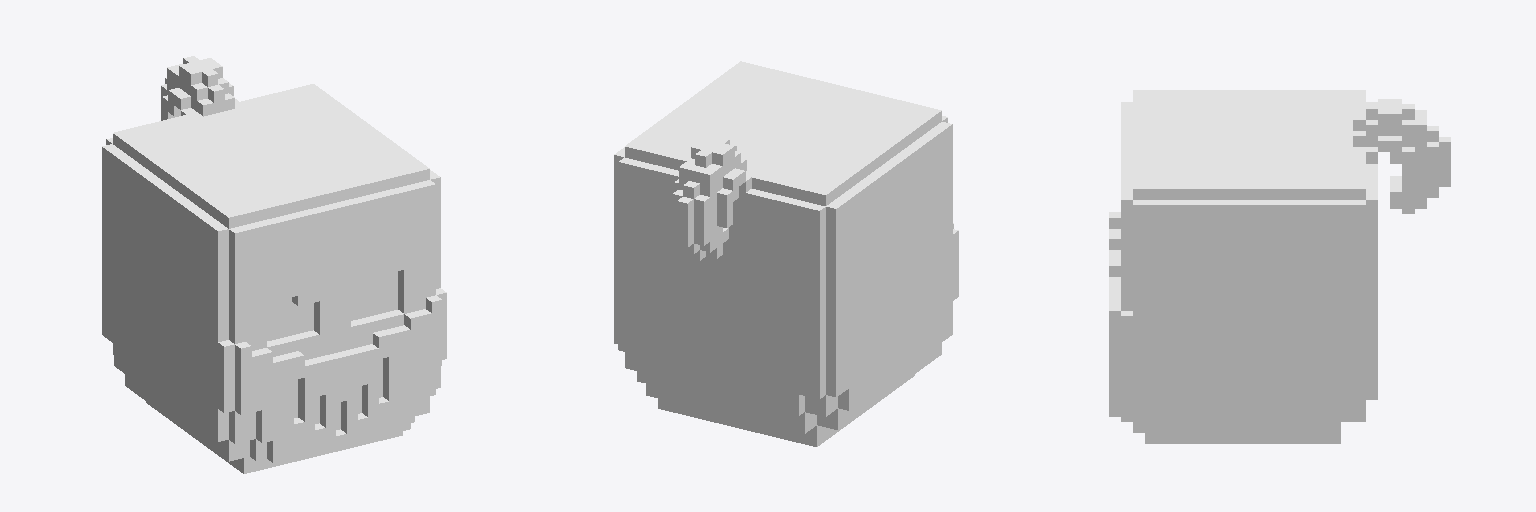
File: enemy-7.obj
3 renders of one model, left to right at view 1: azimuth 30°, elevation 25°; view 2: azimuth 150°, elevation 25°; view 3: azimuth 270°, elevation 25°, orthographic.
Visible parts, largest first — view 1: object 1; view 2: object 1; view 3: object 1.
Boxes of the visible parts, <box> form: object 1: <box>102,56,446,473</box>; object 1: <box>614,61,958,446</box>; object 1: <box>1109,90,1450,443</box>.
Bounding box in the file's own units: 2.1 × 2.7 × 2.8.